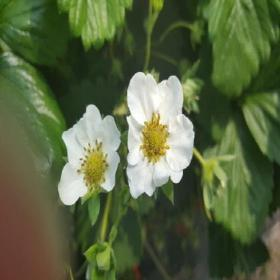Blossom Blight: (75, 137, 111, 192)
